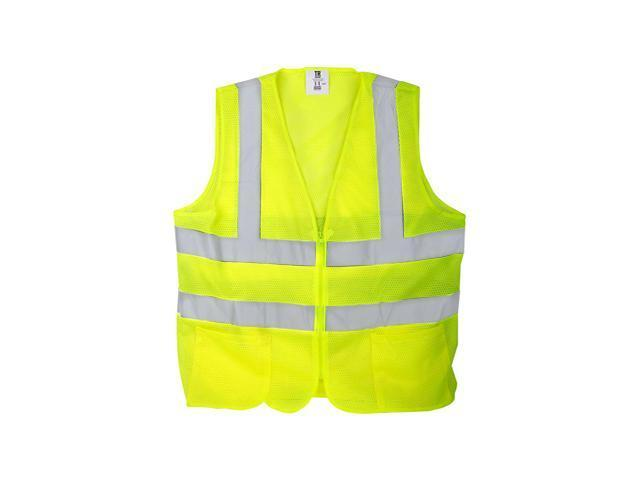vest: (170, 62, 466, 414)
